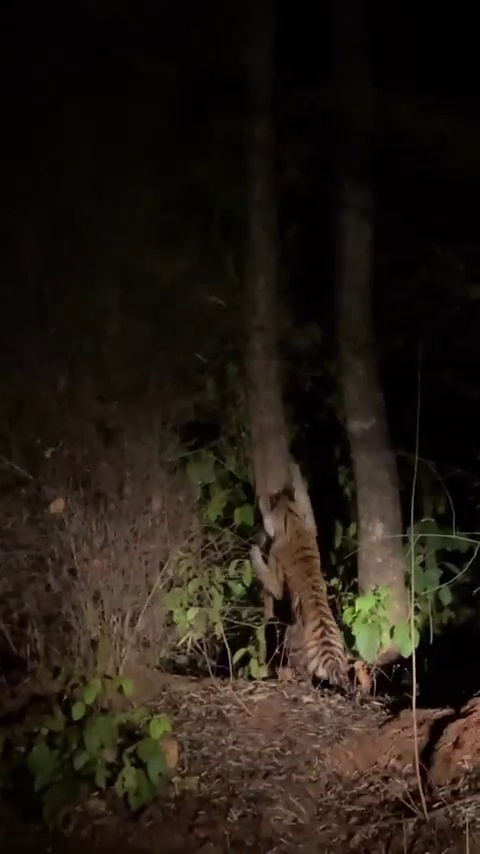Tiger: (242, 480, 378, 697)
